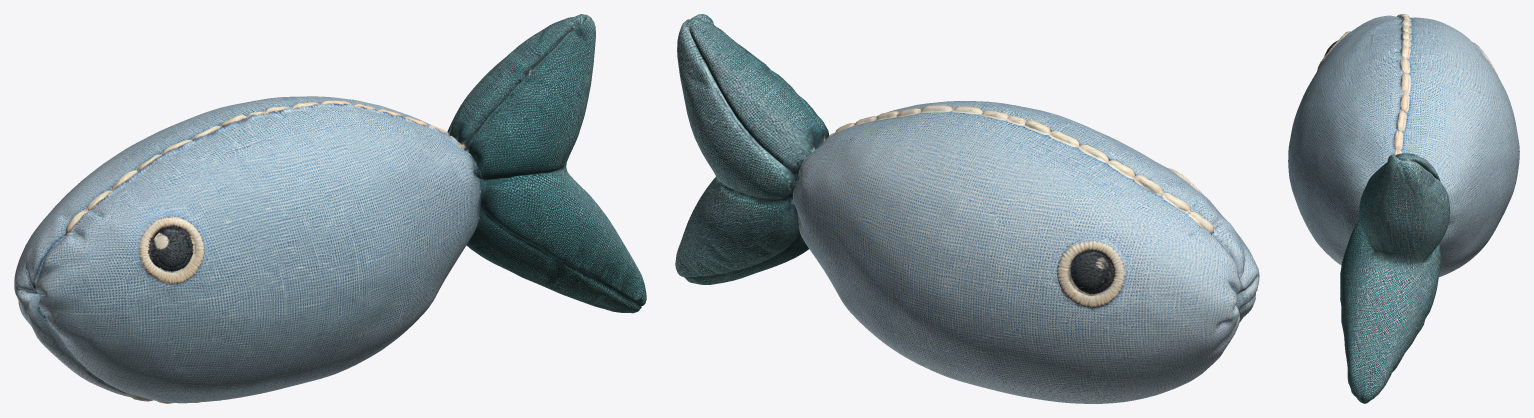
The model's file is tripo_convert_71299c48-28e1-40d1-a6a9-514251280edd.fbx.
3 renders of one model, left to right at view 1: azimuth 30°, elevation 25°; view 2: azimuth 150°, elevation 25°; view 3: azimuth 270°, elevation 25°, orthographic. The views are drawn at different scales.
Visible parts, largest first — view 1: tripo_node_71299c48; view 2: tripo_node_71299c48; view 3: tripo_node_71299c48.
Part boxes in pixels (x1,y1,x2,y2): tripo_node_71299c48: [14, 14, 646, 403]; tripo_node_71299c48: [675, 14, 1259, 403]; tripo_node_71299c48: [1288, 14, 1519, 403].
Size of the model in its own units: 0.9791 by 0.4541 by 0.4033.
1 material, 1 textured.
